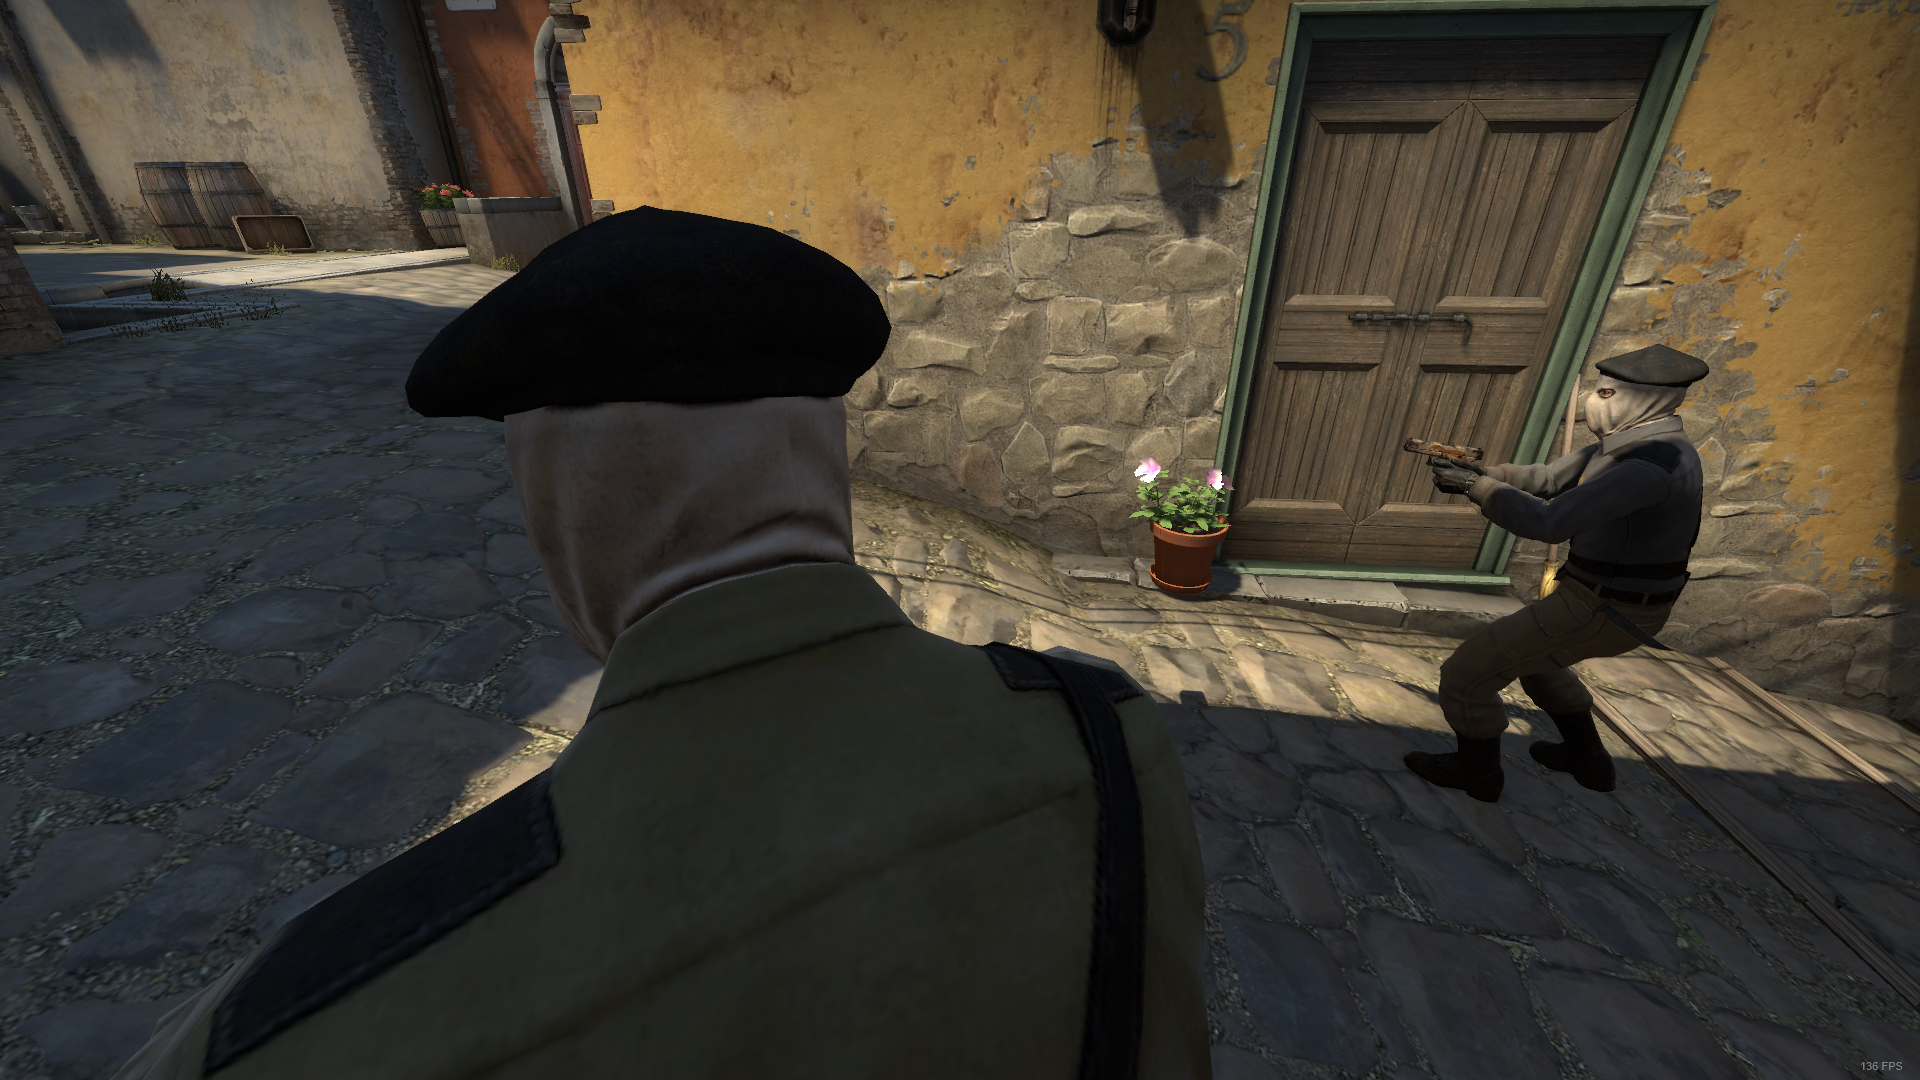t: (156, 206, 1213, 1080), (1404, 342, 1706, 804)
